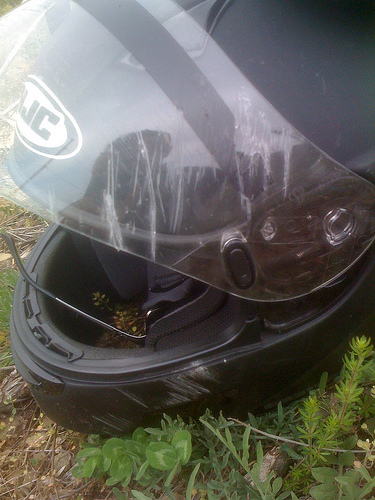helmet: (6, 11, 375, 378)
